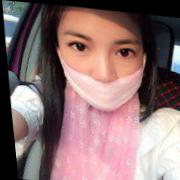WRONG: (54, 11, 149, 114)
